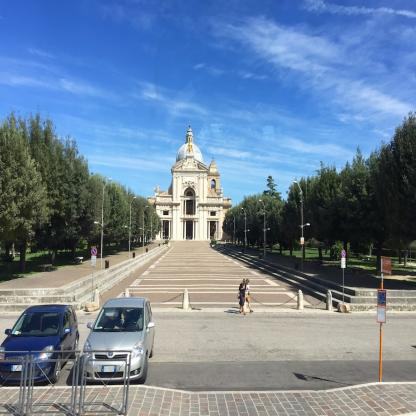Car: (82, 295, 155, 386), (1, 305, 81, 384)
